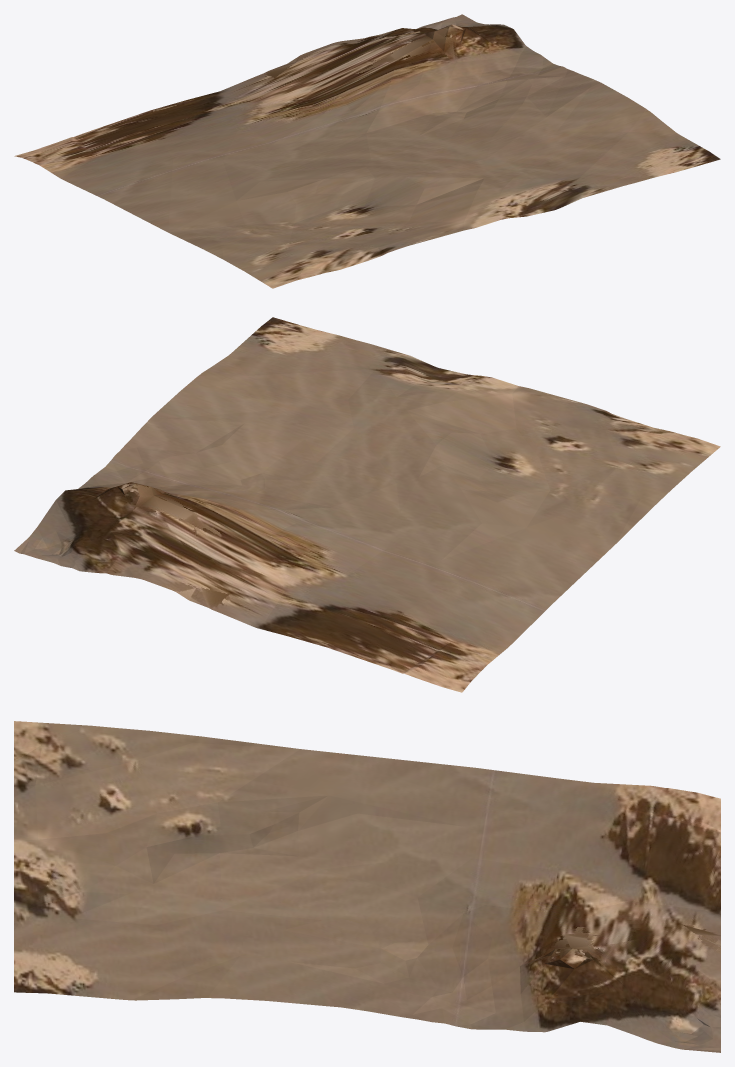
The picture shows the model from 3 angles, top to bottom: view 1: azimuth 30°, elevation 25°; view 2: azimuth 150°, elevation 25°; view 3: azimuth 270°, elevation 25°; orthographic projection. The views are drawn at different scales.
Bounding box in the file's own units: 1.04 × 0.1711 × 1.04.
Materials: 3 (3 with a texture image).
